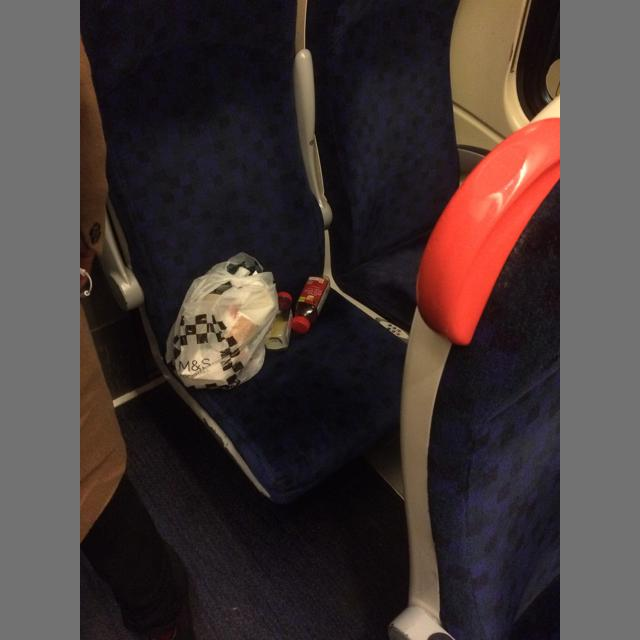litter: (166, 252, 279, 390), (291, 275, 330, 334), (264, 292, 294, 352), (291, 317, 310, 334)
